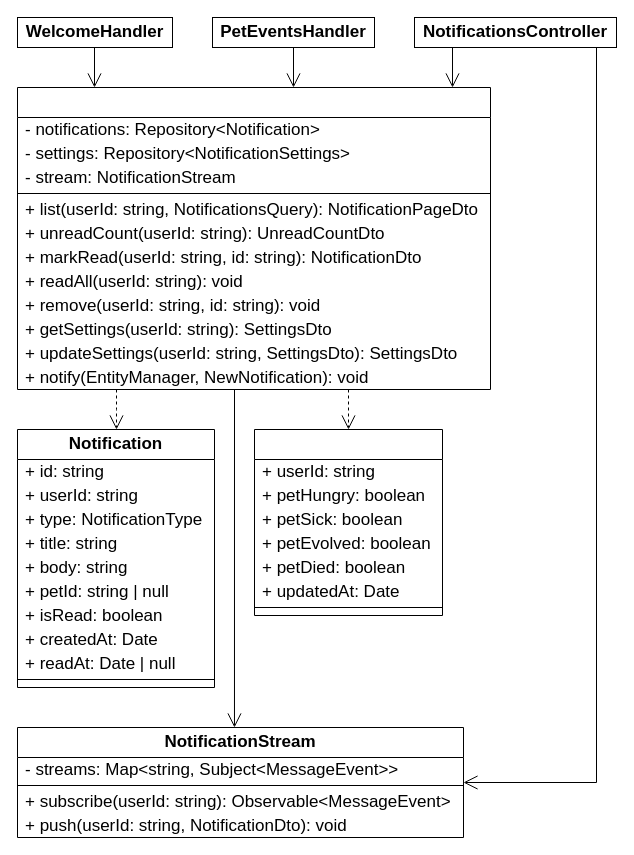
This 634x855 diagram has some shape labels left out. Each missing label, with the box of its shape:
NotificationSettings: (254, 428, 442, 616)
NotificationsService: (16, 86, 490, 390)
